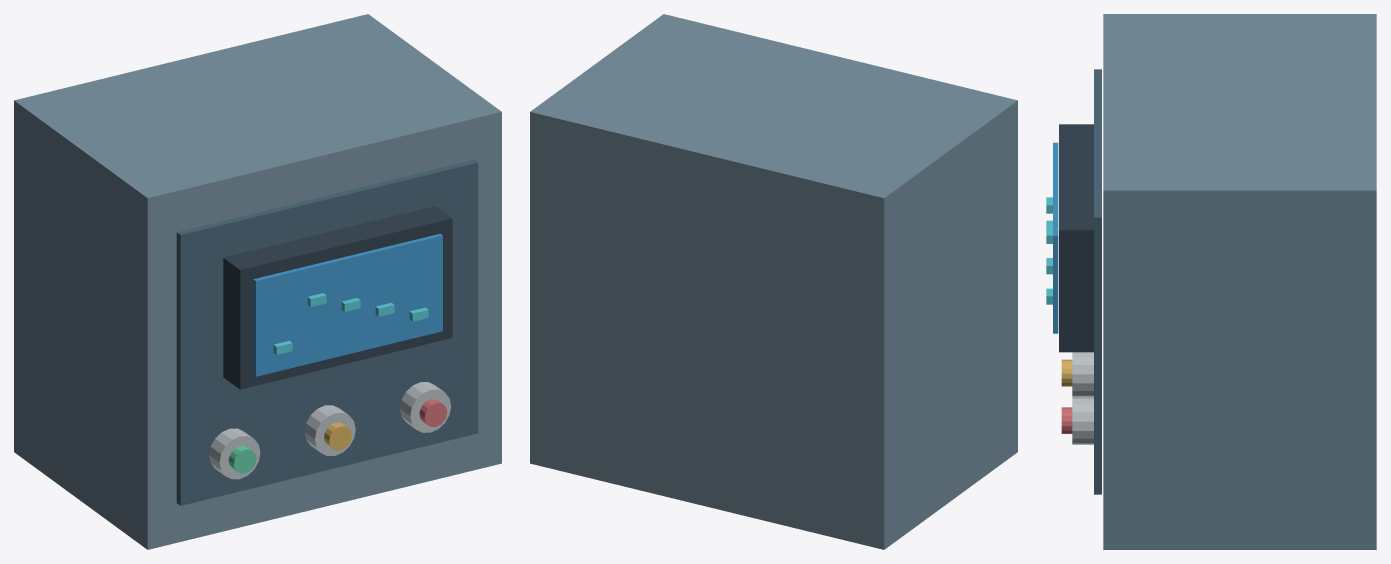
Rendered from 45_L69_Regulated5VControlSupply.glb.
3 views of the same model, side by side, from view 1: azimuth 30°, elevation 25°; view 2: azimuth 150°, elevation 25°; view 3: azimuth 270°, elevation 25° (orthographic). The views are drawn at different scales.
Visible parts, largest first — view 1: Regulated5VControlSupply_Part_000, Regulated5VControlSupply_Part_001, Regulated5VControlSupply_Part_003, Regulated5VControlSupply_Part_002, Regulated5VControlSupply_Part_009, Regulated5VControlSupply_Part_011, Regulated5VControlSupply_Part_013, Regulated5VControlSupply_Part_012, Regulated5VControlSupply_Part_010, Regulated5VControlSupply_Part_014; view 2: Regulated5VControlSupply_Part_000; view 3: Regulated5VControlSupply_Part_000, Regulated5VControlSupply_Part_002, Regulated5VControlSupply_Part_001, Regulated5VControlSupply_Part_003, Regulated5VControlSupply_Part_013, Regulated5VControlSupply_Part_011.
Boxes of the visible parts, left/top/right/bottom form: Regulated5VControlSupply_Part_000: left=14, top=14, right=501, bottom=549; Regulated5VControlSupply_Part_001: left=176, top=160, right=478, bottom=505; Regulated5VControlSupply_Part_003: left=253, top=233, right=442, bottom=376; Regulated5VControlSupply_Part_002: left=223, top=206, right=452, bottom=389; Regulated5VControlSupply_Part_009: left=209, top=428, right=260, bottom=479; Regulated5VControlSupply_Part_011: left=304, top=405, right=355, bottom=455; Regulated5VControlSupply_Part_013: left=400, top=382, right=450, bottom=432; Regulated5VControlSupply_Part_012: left=324, top=422, right=351, bottom=450; Regulated5VControlSupply_Part_010: left=228, top=445, right=256, bottom=473; Regulated5VControlSupply_Part_014: left=419, top=399, right=447, bottom=426; Regulated5VControlSupply_Part_000: left=530, top=14, right=1017, bottom=549; Regulated5VControlSupply_Part_000: left=1103, top=14, right=1376, bottom=549; Regulated5VControlSupply_Part_002: left=1059, top=124, right=1093, bottom=352; Regulated5VControlSupply_Part_001: left=1094, top=69, right=1101, bottom=494; Regulated5VControlSupply_Part_003: left=1053, top=142, right=1058, bottom=333; Regulated5VControlSupply_Part_013: left=1072, top=396, right=1093, bottom=444; Regulated5VControlSupply_Part_011: left=1072, top=352, right=1093, bottom=396.
Bounding box in the file's own units: 0.78 × 0.74 × 0.616.
